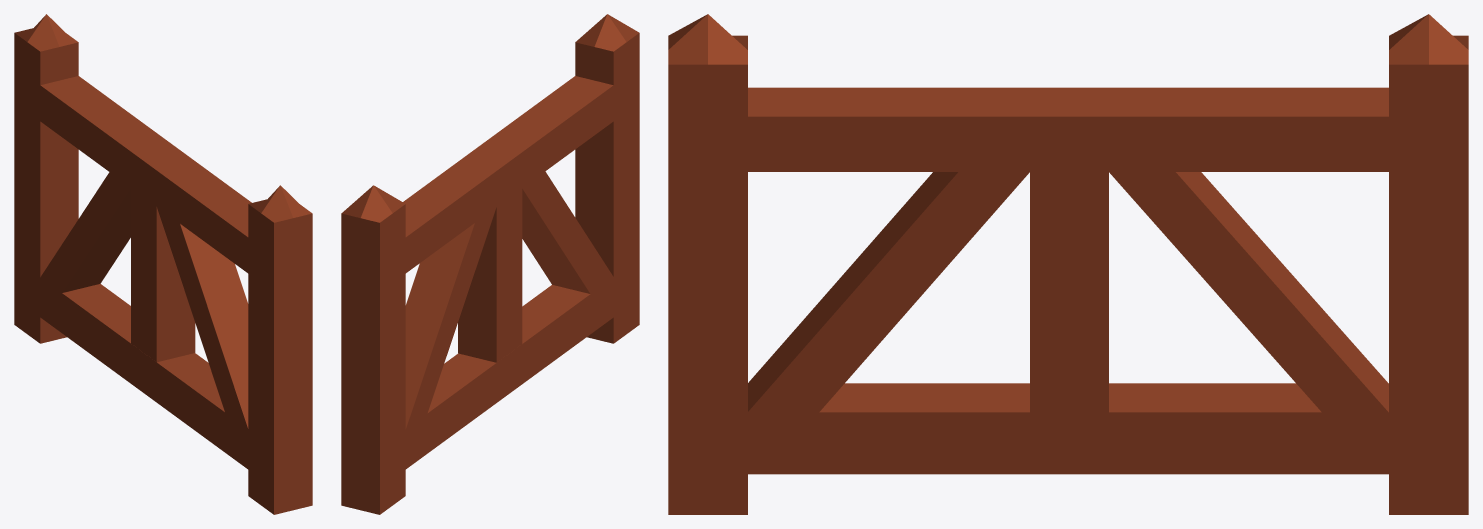
The model's file is Fence Wood 2.fbx.
3 renders of one model, left to right at view 1: azimuth 30°, elevation 25°; view 2: azimuth 150°, elevation 25°; view 3: azimuth 270°, elevation 25°, orthographic. The views are drawn at different scales.
Visible parts, largest first — view 1: Cubo; view 2: Cubo; view 3: Cubo.
Part boxes in pixels (x1,y1,x2,y2): Cubo: (14, 14, 312, 514); Cubo: (341, 14, 639, 514); Cubo: (668, 14, 1468, 514).
Size of the model in its own units: 22.49 by 177 by 263.
